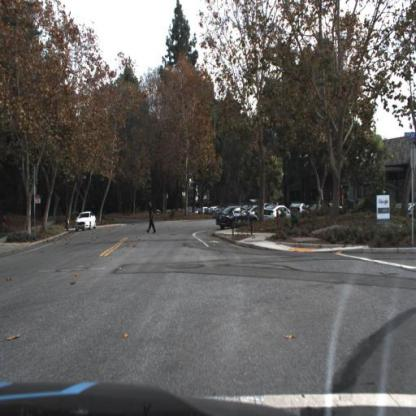car: (215, 206, 254, 231), (215, 206, 259, 227), (261, 202, 296, 223), (265, 206, 295, 224), (74, 211, 98, 232), (76, 213, 97, 232)
pedestrian: (146, 197, 158, 236)
